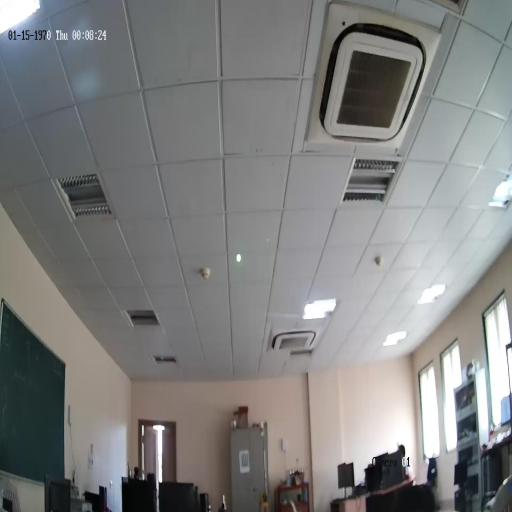laser: (236, 252, 242, 265)
